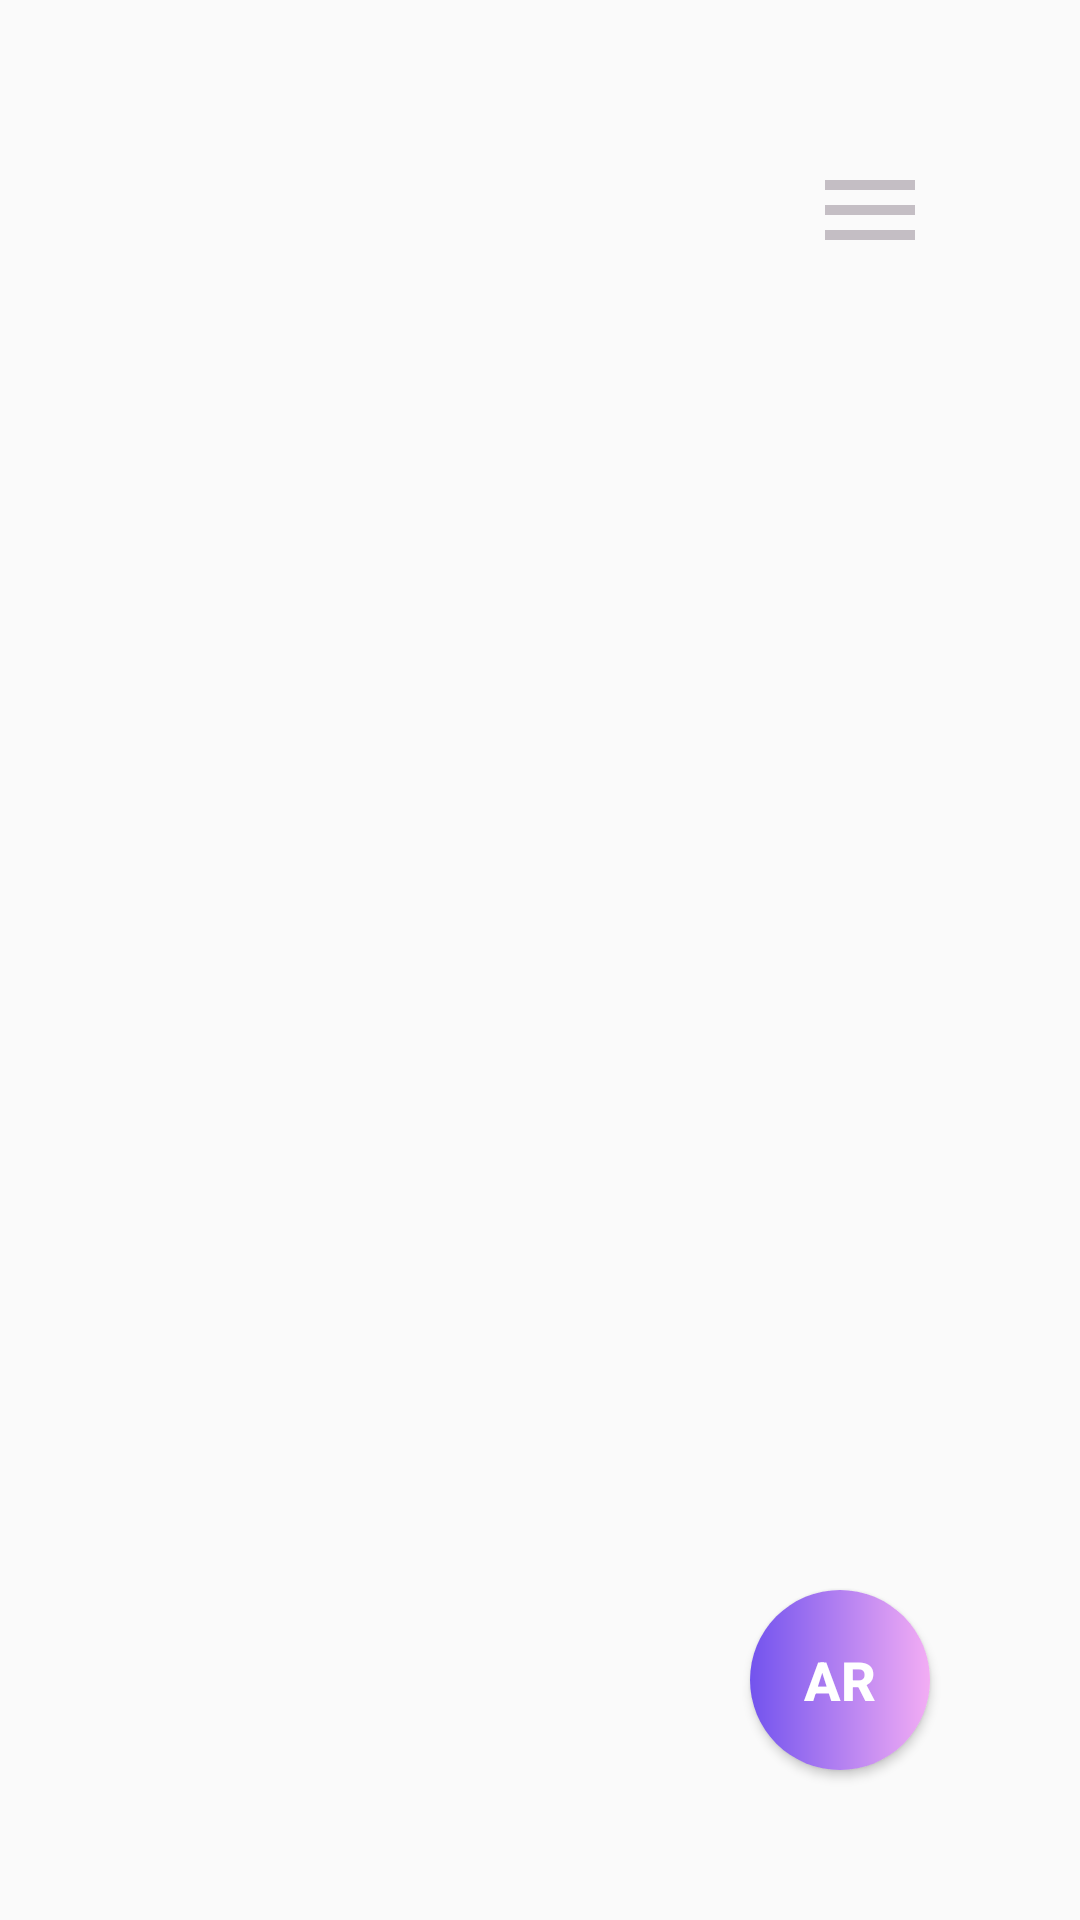

Locate icon controls on the screen. Image size 1080 x 1920, boxes as Rect(x1, y1, x2, y2).
menu: Rect(825, 180, 915, 240)
